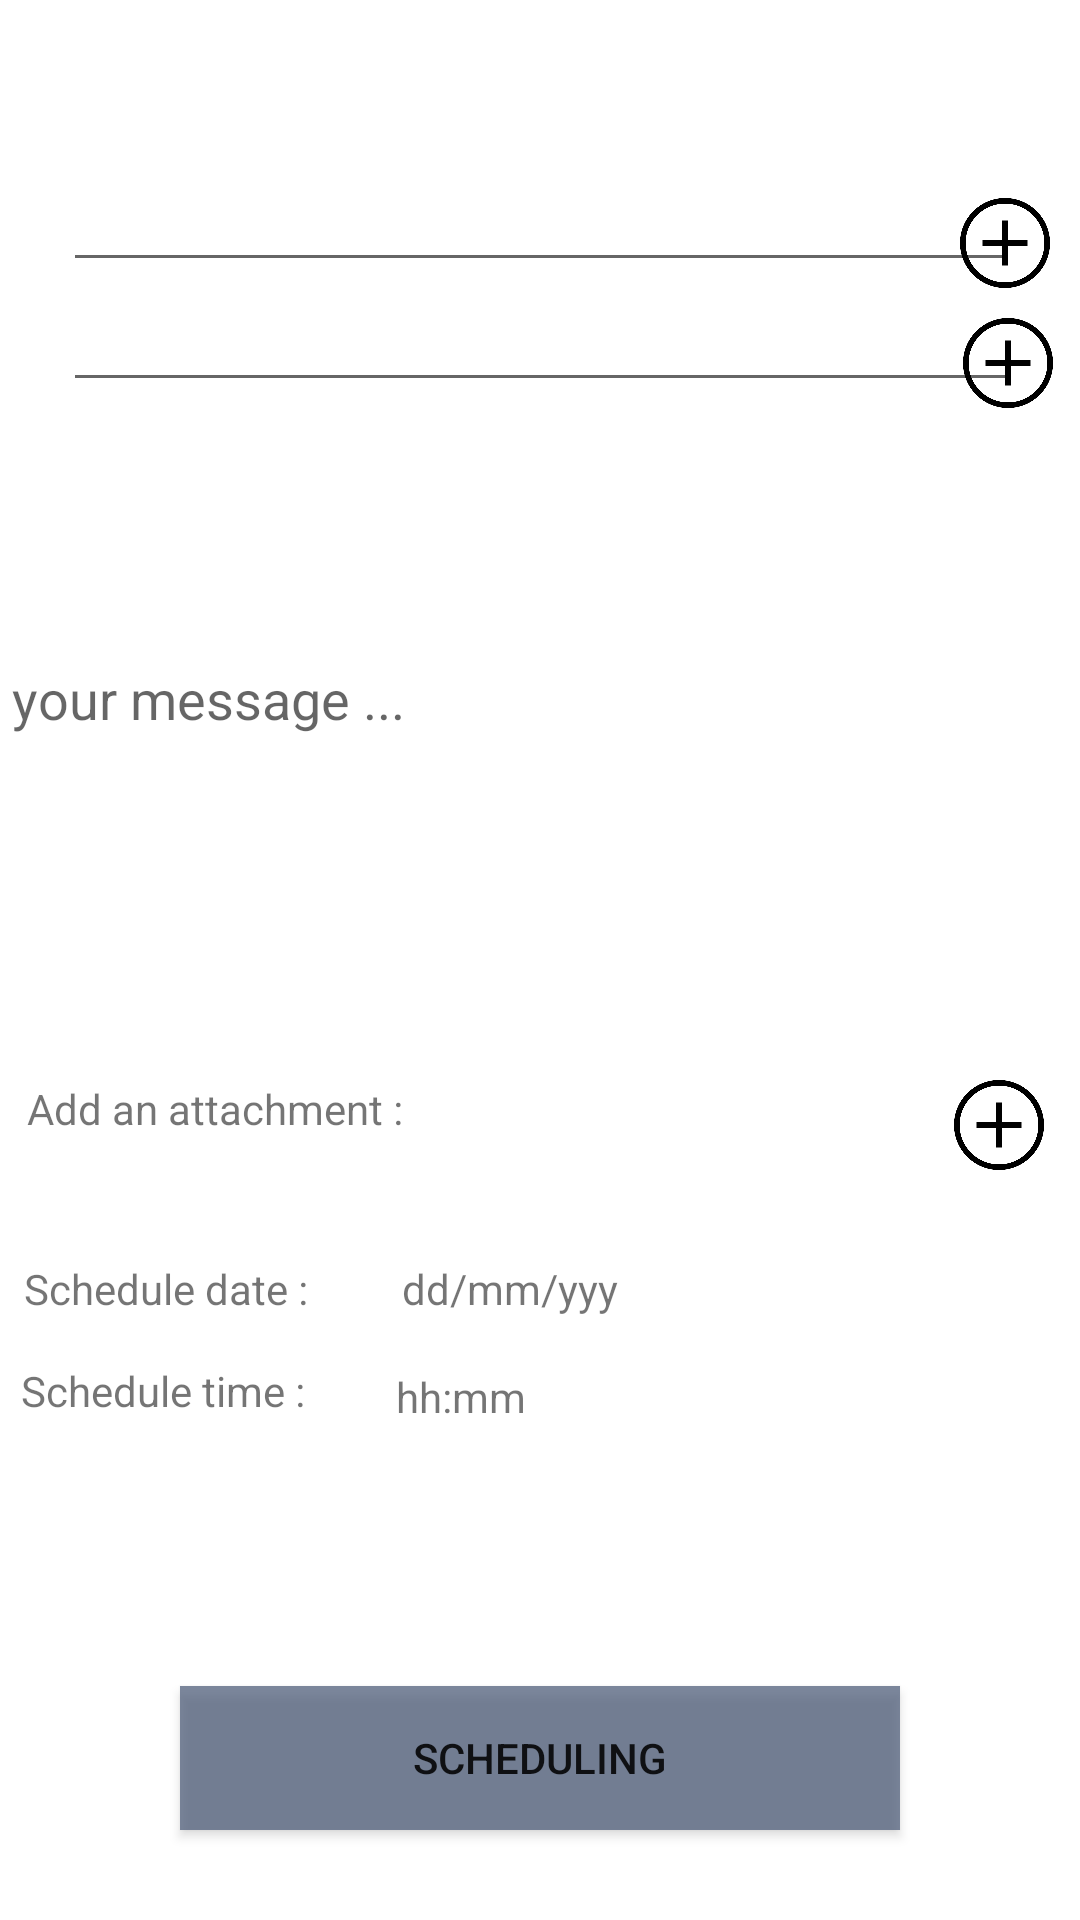

Icons on this 1080*1920 Android screen, each with its box as (x1, y1, x2, y2):
add: (960, 198, 1050, 288), (963, 318, 1053, 408), (954, 1080, 1044, 1170)
